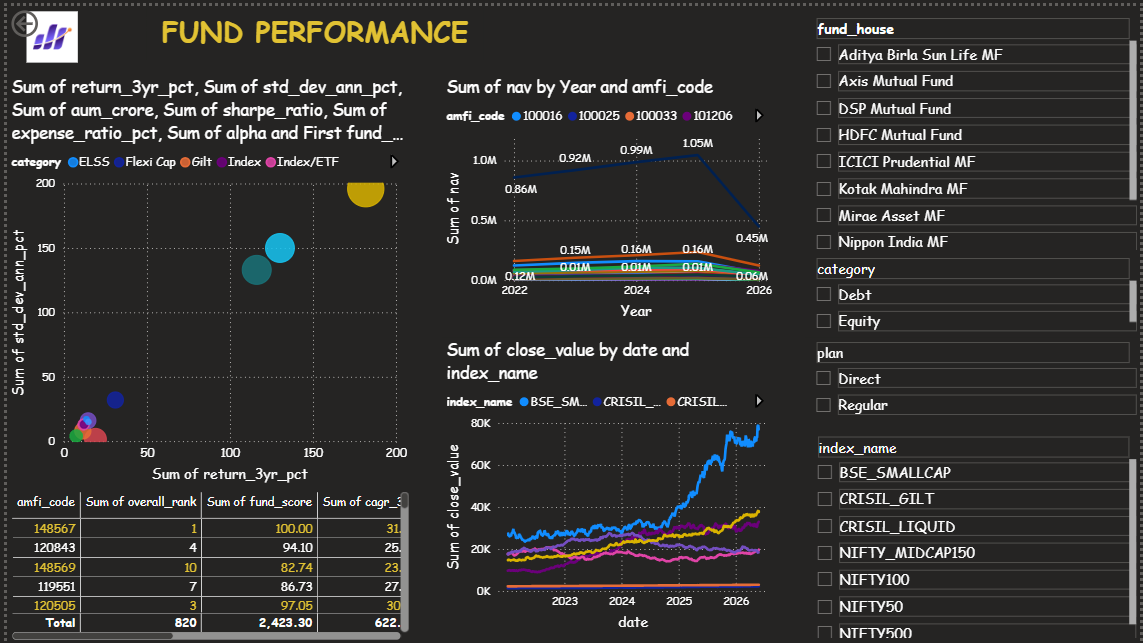

The dashboard page shown, as its layout file describes it:
{"tool":"powerbi","page":{"name":"Fund Performance","canvas":[1280,720],"ordinal":1},"visuals":[{"type":"scatterChart","fields":{"X":["Sum(07_scheme_performance_clean.return_3yr_pct)"],"Y":["Sum(07_scheme_performance_clean.std_dev_ann_pct)"],"Size":["Sum(07_scheme_performance_clean.aum_crore)"],"Series":["07_scheme_performance_clean.category"]},"box":[0,77.9,457.2,465.5],"z":0},{"type":"tableEx","fields":{"Values":["fund_scorecard.amfi_code","Sum(fund_scorecard.overall_rank)","Sum(fund_scorecard.fund_score)","Sum(fund_scorecard.cagr_3yr)","Sum(fund_scorecard.sharpe_ratio)","Sum(fund_scorecard.alpha)","Sum(fund_scorecard.maximum_drawdown)","Sum(fund_scorecard.expense_ratio_pct)"]},"box":[0,543.3,458.8,177.2],"z":1000},{"type":"slicer","fields":{"Values":["01_fund_master_clean.fund_house"]},"box":[901.1,8.3,379.3,271.7],"z":2000},{"type":"slicer","fields":{"Values":["01_fund_master_clean.category"]},"box":[901.1,279.9,379.3,94.4],"z":3000},{"type":"slicer","fields":{"Values":["01_fund_master_clean.plan"]},"box":[901.1,374.4,379.3,107.7],"z":4000},{"type":"lineChart","fields":{"Category":["02_nav_history_clean.date.Variation.Date Hierarchy.Year","02_nav_history_clean.date.Variation.Date Hierarchy.Quarter","02_nav_history_clean.date.Variation.Date Hierarchy.Month","02_nav_history_clean.date.Variation.Date Hierarchy.Day"],"Series":["02_nav_history_clean.amfi_code"],"Y":["Sum(02_nav_history_clean.nav)"]},"box":[492,77.9,377.7,281.6],"z":5000},{"type":"lineChart","fields":{"Category":["10_benchmark_indices_clean.date"],"Y":["Sum(10_benchmark_indices_clean.close_value)"],"Series":["10_benchmark_indices_clean.index_name"]},"box":[492,374.4,377.7,336.3],"z":6000},{"type":"slicer","fields":{"Values":["10_benchmark_indices_clean.index_name"]},"box":[902.8,482,377.7,236.9],"z":7000},{"type":"textbox","box":[157.4,0,381,61.3],"z":8000},{"type":"image","box":[21.5,0,58,69.6],"z":9000},{"type":"actionButton","box":[0,0,100,40],"z":9001}]}

Visuals, with their boxes in screenshot pixels (x1, y1, x2, y2), scaled from the page's 1280x720 canvas onto the 1143x643 screenshot:
scatterChart - Sum(07_scheme_performance_clean.return_3yr_pct) x Sum(07_scheme_performance_clean.std_dev_ann_pct): {"x1": 0, "y1": 70, "x2": 408, "y2": 485}
tableEx - fund_scorecard.amfi_code x Sum(fund_scorecard.overall_rank): {"x1": 0, "y1": 485, "x2": 410, "y2": 642}
slicer - 01_fund_master_clean.fund_house: {"x1": 805, "y1": 7, "x2": 1142, "y2": 250}
slicer - 01_fund_master_clean.category: {"x1": 805, "y1": 250, "x2": 1142, "y2": 334}
slicer - 01_fund_master_clean.plan: {"x1": 805, "y1": 334, "x2": 1142, "y2": 431}
lineChart - 02_nav_history_clean.date.Variation.Date Hierarchy.Year x 02_nav_history_clean.date.Variation.Date Hierarchy.Quarter: {"x1": 439, "y1": 70, "x2": 777, "y2": 321}
lineChart - 10_benchmark_indices_clean.date x Sum(10_benchmark_indices_clean.close_value): {"x1": 439, "y1": 334, "x2": 777, "y2": 635}
slicer - 10_benchmark_indices_clean.index_name: {"x1": 806, "y1": 430, "x2": 1142, "y2": 642}
textbox: {"x1": 141, "y1": 0, "x2": 481, "y2": 55}
image: {"x1": 19, "y1": 0, "x2": 71, "y2": 62}
actionButton: {"x1": 0, "y1": 0, "x2": 89, "y2": 36}
